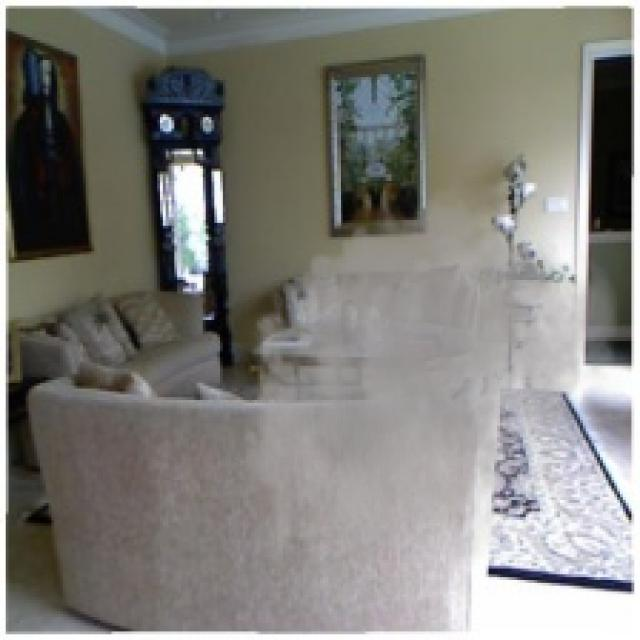smoke: (226, 177, 631, 583)
